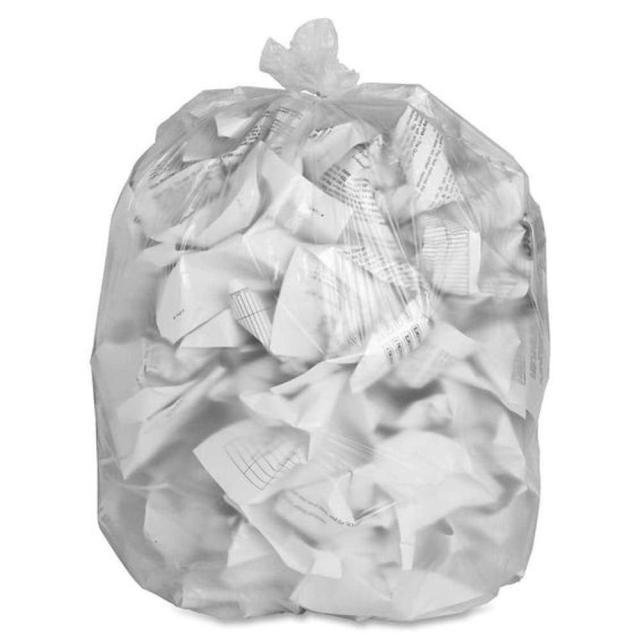Garbage_Bag: (85, 56, 543, 628)
